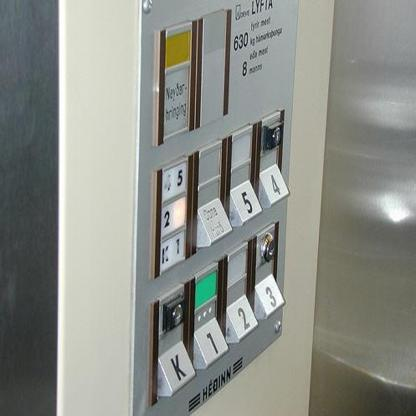1: (193, 315, 229, 368)
2: (226, 294, 258, 343), (158, 195, 187, 239)
3: (254, 273, 285, 321)
4: (258, 163, 290, 209)
5: (229, 179, 262, 227), (159, 155, 187, 205)
K: (158, 340, 196, 393)
K1: (158, 226, 186, 271)
keyhole: (161, 290, 185, 332), (258, 229, 278, 265), (264, 117, 284, 150)
unknown: (196, 197, 232, 246)
